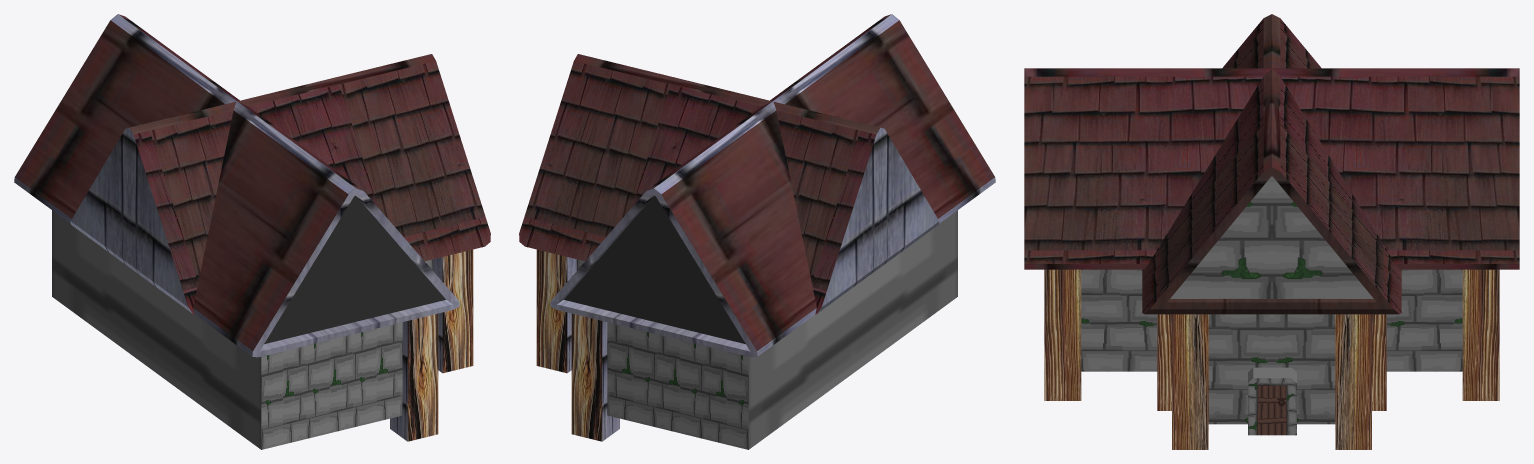
File: moredetailsmallhouse.fbx
The picture shows the model from 3 angles, left to right: view 1: azimuth 30°, elevation 25°; view 2: azimuth 150°, elevation 25°; view 3: azimuth 270°, elevation 25°; orthographic projection. The views are drawn at different scales.
Visible parts, largest first — view 1: Cube.001; view 2: Cube.001; view 3: Cube.001.
Boxes of the visible parts, x1=… form: Cube.001: x1=14, y1=14, x2=490, y2=449; Cube.001: x1=519, y1=14, x2=995, y2=449; Cube.001: x1=1024, y1=14, x2=1519, y2=449.
Bounding box in the file's own units: 2154 × 1616 × 1407.
